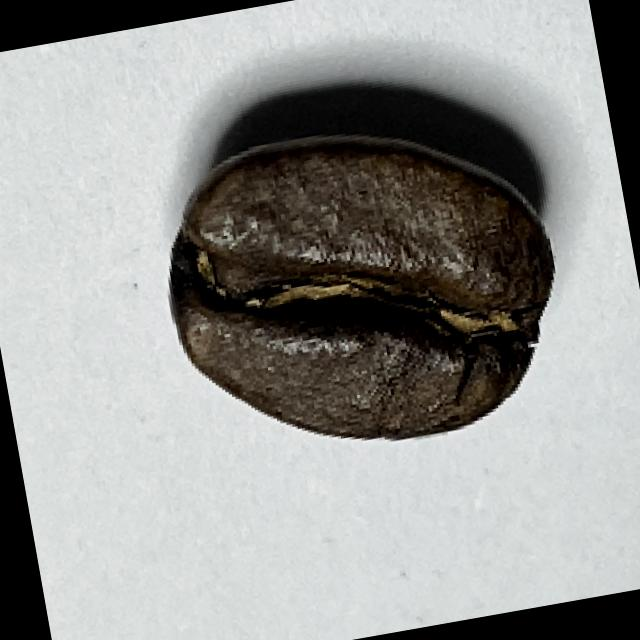bean: (140, 99, 586, 482)
